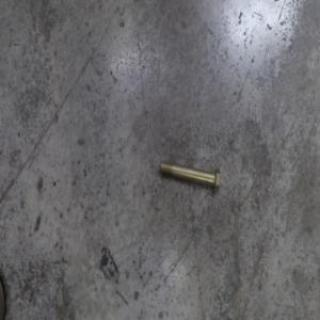Bolttrack_idkeyframe: (157, 159, 221, 194)
